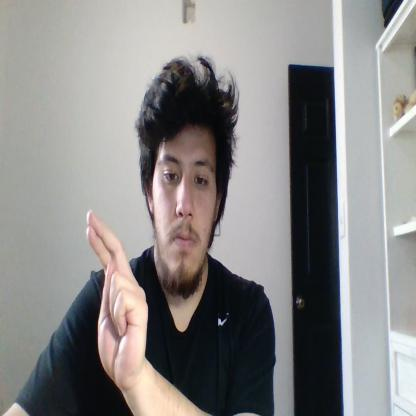R: (86, 212, 147, 388)
